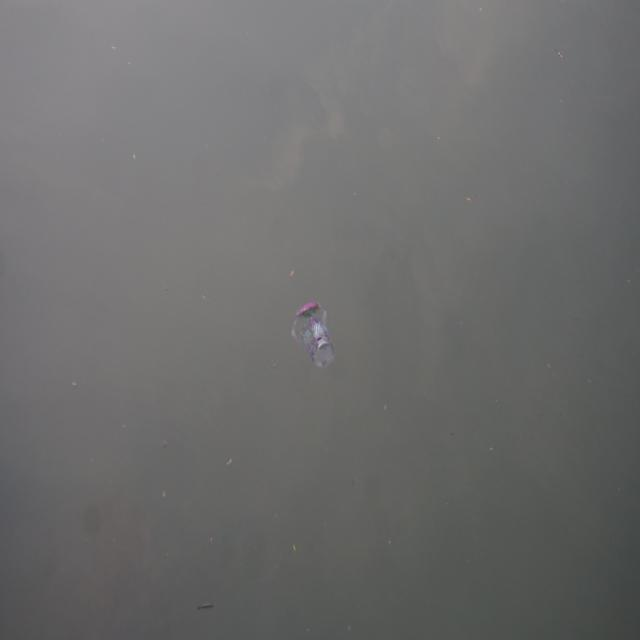Bungkus Minuman: (287, 291, 338, 373)
